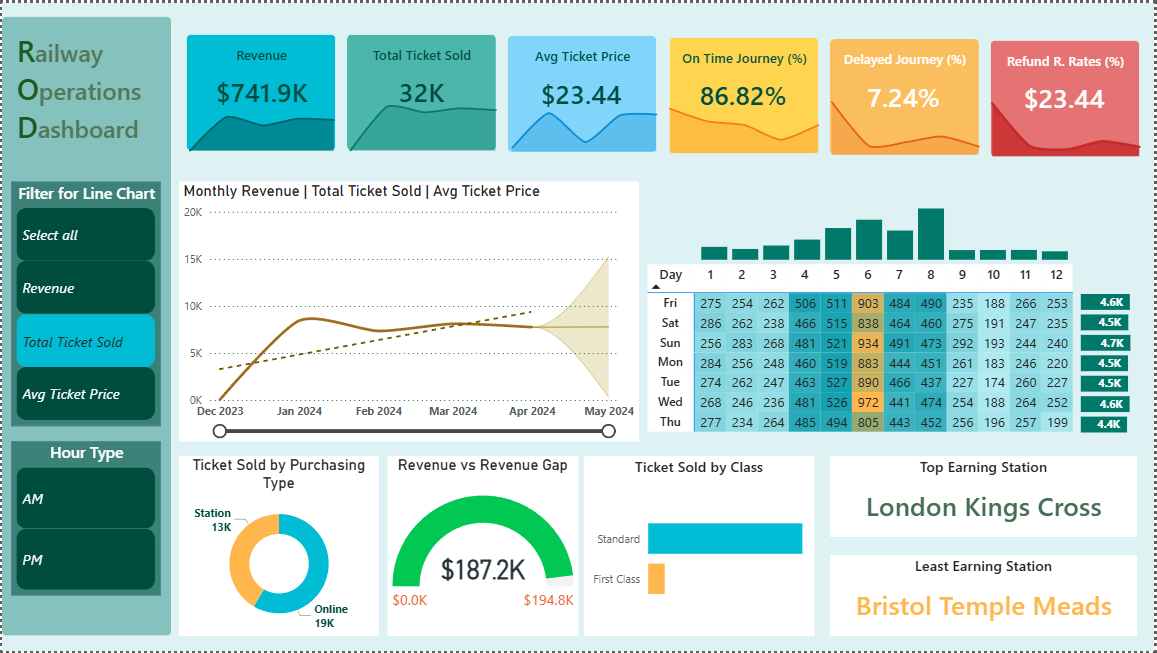

This screenshot's page, from the dashboard's own definition file:
{"tool":"powerbi","page":{"name":"Dashboard","canvas":[1280,720],"ordinal":0},"visuals":[{"type":"shape","title":"Slicer Shape","box":[0,15,188,688],"z":0},{"type":"shape","title":"Rev. Shape","box":[205.9,34.5,165.6,128.9],"z":0,"group":"g6"},{"type":"shape","title":"TTS Shape","box":[383.7,35.3,165.6,128.9],"z":0,"group":"g5"},{"type":"shape","title":"ATP Shape","box":[562.1,37.2,165.6,128.9],"z":0,"group":"g4"},{"type":"shape","title":"OTJ Shape","box":[742.3,38.3,165.6,128.9],"z":0,"group":"g3"},{"type":"shape","title":"DJ Shape","box":[921,40.1,165.6,128.9],"z":0,"group":"g2"},{"type":"shape","title":"RRR Shape","box":[1099.3,41.4,165.6,128.9],"z":0,"group":"g1"},{"type":"card","title":"Rev. Card","fields":{"Values":["_measures.Revenue"]},"box":[210,34.6,157,129],"z":1000,"group":"g6"},{"type":"card","title":"TTS Card","fields":{"Values":["_measures.Total Ticket Sold"]},"box":[384.2,35.5,165.6,128.9],"z":1000,"group":"g5"},{"type":"card","title":"ATP Card","fields":{"Values":["_measures.Avg Ticket Price"]},"box":[560.7,37.8,166.7,128.9],"z":1000,"group":"g4"},{"type":"card","title":"OTJ Card","fields":{"Values":["_measures.On-Time Journey (%)"]},"box":[740.9,38.9,166.7,128.9],"z":1000,"group":"g3"},{"type":"card","title":"DJ Card","fields":{"Values":["_measures.Delayed Journey (%)"]},"box":[919.6,40.7,166.7,128.9],"z":1000,"group":"g2"},{"type":"group","id":"g1","title":"Refund Rates","box":[1085.7,41.4,194.3,134.3],"z":1000},{"type":"card","title":"RRR Card","fields":{"Values":["_measures.Avg Ticket Price"]},"box":[1097.9,42,166.7,128.9],"z":1000,"group":"g1"},{"type":"group","id":"g2","title":"Delayed Journey","box":[907.4,40.1,193.3,133.9],"z":2000},{"type":"textbox","title":"Rev. Text","box":[210,40.6,157,32],"z":2000,"group":"g6"},{"type":"textbox","title":"TTS Text","box":[387.9,41.4,157,32],"z":2000,"group":"g5"},{"type":"textbox","title":"ATP Text","box":[566.2,43.3,157,32],"z":2000,"group":"g4"},{"type":"textbox","title":"OTJ Text","box":[746.4,44.4,157,32],"z":2000,"group":"g3"},{"type":"textbox","title":"DJ Text","box":[925.1,46.2,157,32],"z":2000,"group":"g2"},{"type":"textbox","title":"RRR Text","box":[1103.4,47.5,157,32],"z":2000,"group":"g1"},{"type":"group","id":"g3","title":"On Time Journey","box":[727.1,38.3,195,133.5],"z":3000},{"type":"lineChart","title":"ATP Value","fields":{"Category":["railway.Start of Month"],"Y":["_measures.Avg Ticket Price"]},"box":[551.6,91.5,190,78.3],"z":3000,"group":"g4"},{"type":"lineChart","title":"OTJ Value","fields":{"Category":["railway.Start of Month"],"Y":["_measures.On-Time Journey (%)"]},"box":[727.1,91.8,195,80],"z":3000,"group":"g3"},{"type":"lineChart","title":"TTS Value","fields":{"Category":["railway.Start of Month"],"Y":["_measures.Total Ticket Sold"]},"box":[371.8,92.7,191.7,78.3],"z":3000,"group":"g5"},{"type":"lineChart","title":"DJ Value","fields":{"Category":["railway.Start of Month"],"Y":["_measures.Delayed Journey (%)"]},"box":[907.4,94,193.3,80],"z":3000,"group":"g2"},{"type":"lineChart","title":"Rev. Value","fields":{"Y":["_measures.Revenue"],"Category":["railway.Start of Month"]},"box":[194,94.7,190,75],"z":3000,"group":"g6"},{"type":"lineChart","title":"RRR Value","fields":{"Category":["railway.Start of Month"],"Y":["_measures.Refund R. Rates (%)"]},"box":[1085.7,95.3,193.3,80],"z":3000,"group":"g1"},{"type":"group","id":"g4","title":"Avg Ticket Price","box":[551.6,37.2,190,132.7],"z":4000},{"type":"group","id":"g5","title":"Total Ticket Sold","box":[371.8,35.3,191.7,135.7],"z":5000},{"type":"group","id":"g6","title":"Revenue","box":[194,34.5,189.4,136],"z":6000},{"type":"lineChart","title":"Monthly Revenue | Total Ticket Sold | Avg Ticket Price","fields":{"Y":["_measures.Total Ticket Sold"],"Category":["railway.Start of Month"]},"box":[197.1,198.6,510,288.6],"z":7000},{"type":"listSlicer","title":"Hour Type","fields":{"Values":["railway.Hour Type"]},"box":[10,486.7,166.7,171.7],"z":8000},{"type":"listSlicer","title":"Filter for Line Chart","fields":{"Values":["Trends.Parameter"]},"box":[10,198.3,166.7,271.7],"z":9000},{"type":"pivotTable","fields":{"Columns":["railway.Hour"],"Rows":["railway.Day Name"],"Values":["_measures.Total Ticket Sold"]},"box":[711.4,284.8,483.8,204.2],"z":9000,"group":"g7"},{"type":"group","id":"g7","title":"Group 1","box":[711.4,197.1,567.1,291.4],"z":10000},{"type":"clusteredColumnChart","fields":{"Category":["railway.Hour"],"Y":["_measures.Revenue"]},"box":[735.9,197.1,452.9,94.3],"z":10000,"group":"g7"},{"type":"barChart","fields":{"Y":["_measures.Total Ticket Sold"],"Category":["railway.Day Name"]},"box":[1193.6,310,86.2,172.4],"z":11000,"group":"g7"},{"type":"donutChart","title":"Ticket Sold by Purchasing Type","fields":{"Category":["railway.Purchase Type"],"Y":["_measures.Total Ticket Sold"]},"box":[196.7,503.3,221.7,200],"z":11000},{"type":"gauge","title":"Revenue vs Revenue Gap","fields":{"Y":["_measures.Revenue"],"MaxValue":["_measures.PM Revenue"]},"box":[428.3,503.3,211.7,200],"z":12000},{"type":"textbox","box":[11.7,25,166.7,150],"z":13000},{"type":"barChart","title":"Ticket Sold by Class","fields":{"Y":["_measures.Total Ticket Sold"],"Category":["railway.Ticket Class"]},"box":[647.1,502.9,255.7,200],"z":14000},{"type":"card","title":"Top Earning Station","fields":{"Values":["Min(railway.Departure Station)"]},"box":[920,502.9,341.4,90],"z":15000},{"type":"card","title":"Least Earning Station","fields":{"Values":["Min(railway.Departure Station)"]},"box":[920,612.9,341.4,90],"z":16000}]}

Visuals, with their boxes in screenshot pixels (x1, y1, x2, y2), scaled from the page's 1280x720 canvas onto the 1157x653 screenshot:
"Slicer Shape" shape: (0,14,170,638)
"Rev. Shape" shape: (186,31,336,148)
"TTS Shape" shape: (347,32,497,149)
"ATP Shape" shape: (508,34,658,151)
"OTJ Shape" shape: (671,35,821,152)
"DJ Shape" shape: (832,36,982,153)
"RRR Shape" shape: (994,38,1143,154)
"Rev. Card" card: (190,31,332,148)
"TTS Card" card: (347,32,497,149)
"ATP Card" card: (507,34,658,151)
"OTJ Card" card: (670,35,820,152)
"DJ Card" card: (831,37,982,154)
"Refund Rates" group: (981,38,1156,159)
"RRR Card" card: (992,38,1143,155)
"Delayed Journey" group: (820,36,995,158)
"Rev. Text" textbox: (190,37,332,66)
"TTS Text" textbox: (351,38,493,67)
"ATP Text" textbox: (512,39,654,68)
"OTJ Text" textbox: (675,40,817,69)
"DJ Text" textbox: (836,42,978,71)
"RRR Text" textbox: (997,43,1139,72)
"On Time Journey" group: (657,35,833,156)
"ATP Value" lineChart: (499,83,670,154)
"OTJ Value" lineChart: (657,83,833,156)
"TTS Value" lineChart: (336,84,509,155)
"DJ Value" lineChart: (820,85,995,158)
"Rev. Value" lineChart: (175,86,347,154)
"RRR Value" lineChart: (981,86,1156,159)
"Avg Ticket Price" group: (499,34,670,154)
"Total Ticket Sold" group: (336,32,509,155)
"Revenue" group: (175,31,347,155)
"Monthly Revenue | Total Ticket Sold | Avg Ticket Price" lineChart: (178,180,639,442)
"Hour Type" listSlicer: (9,441,160,597)
"Filter for Line Chart" listSlicer: (9,180,160,426)
pivotTable - railway.Hour x railway.Day Name: (643,258,1080,443)
"Group 1" group: (643,179,1156,443)
clusteredColumnChart - railway.Hour x _measures.Revenue: (665,179,1075,264)
barChart - _measures.Total Ticket Sold x railway.Day Name: (1079,281,1156,438)
"Ticket Sold by Purchasing Type" donutChart: (178,456,378,638)
"Revenue vs Revenue Gap" gauge: (387,456,578,638)
textbox: (11,23,161,159)
"Ticket Sold by Class" barChart: (585,456,816,637)
"Top Earning Station" card: (832,456,1140,538)
"Least Earning Station" card: (832,556,1140,637)
